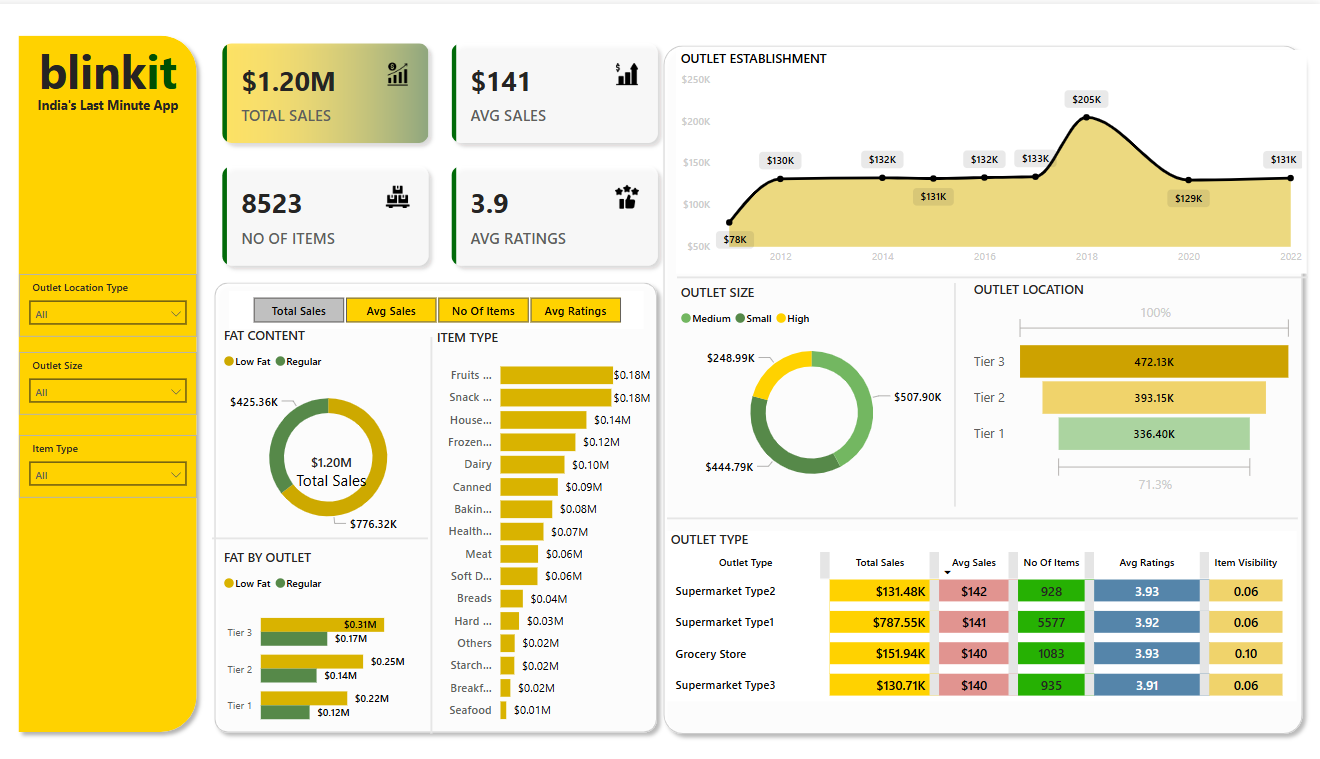

What the dashboard file says about the page in this screenshot:
{"tool":"powerbi","page":{"name":"Page 1","canvas":[1400,800],"ordinal":0},"visuals":[{"type":"shape","box":[22.3,24.5,205.3,750],"z":0},{"type":"textbox","box":[31.6,32.6,186.7,75.1],"z":1000},{"type":"textbox","box":[31.6,92.8,186.7,28.6],"z":2000},{"type":"cardVisual","fields":{"Data":["BlinkIT Grocery Data.Total Sales","BlinkIT Grocery Data.Average Sales","BlinkIT Grocery Data.Number Of Items","BlinkIT Grocery Data.Average Ratings"]},"box":[228.1,24.7,493.8,269.6],"z":3000},{"type":"shape","box":[228.1,283.5,483,490.9],"z":4000},{"type":"slicer","fields":{"Values":["Metrics.Metrics"]},"box":[251.9,301.2,435.6,40.5],"z":5000},{"type":"donutChart","title":"FAT CONTENT","fields":{"Y":["BlinkIT Grocery Data.Total Sales"],"Category":["BlinkIT Grocery Data.Item Fat Content"]},"box":[241.5,339.6,230.2,230.2],"z":6000},{"type":"cardVisual","fields":{"Data":["BlinkIT Grocery Data.Total Sales"]},"box":[305.2,454.3,110.6,75.1],"z":7000},{"type":"clusteredBarChart","title":"FAT BY OUTLET","fields":{"Y":["BlinkIT Grocery Data.Total Sales"],"Category":["BlinkIT Grocery Data.Outlet Location Type"],"Series":["BlinkIT Grocery Data.Item Fat Content"]},"box":[241.5,572.6,220.8,200.9],"z":8000},{"type":"shape","box":[234.9,549.1,227.4,26.4],"z":9000},{"type":"shape","box":[455.3,349.6,19.8,416.8],"z":10000},{"type":"barChart","title":"ITEM TYPE","fields":{"Y":["BlinkIT Grocery Data.Total Sales"],"Category":["BlinkIT Grocery Data.Item Type"]},"box":[465.2,341.7,235.1,424.7],"z":11000},{"type":"shape","box":[700,34.9,689.6,741.5],"z":12000},{"type":"lineChart","title":"OUTLET ESTABLISHMENT","fields":{"Category":["BlinkIT Grocery Data.Outlet Establishment Year"],"Y":["BlinkIT Grocery Data.Total Sales"]},"box":[721.7,48.1,663.2,234.9],"z":13000},{"type":"shape","box":[723.6,274.5,663.2,26.4],"z":14000},{"type":"donutChart","title":"OUTLET SIZE","fields":{"Y":["BlinkIT Grocery Data.Total Sales"],"Category":["BlinkIT Grocery Data.Outlet Size"]},"box":[722.1,294.3,285.9,226],"z":15000},{"type":"shape","box":[997.4,293.2,35.7,235.4],"z":16000},{"type":"funnel","title":"OUTLET LOCATION","fields":{"Category":["BlinkIT Grocery Data.Outlet Location Type"],"Y":["Sum(BlinkIT Grocery Data.Sales)"]},"box":[1030,291.1,345.8,228.1],"z":17000},{"type":"shape","box":[712.6,527.6,663.2,26.3],"z":18000},{"type":"pivotTable","title":"OUTLET TYPE","fields":{"Rows":["BlinkIT Grocery Data.Outlet Type"],"Values":["BlinkIT Grocery Data.Total Sales","BlinkIT Grocery Data.Avg Sales","BlinkIT Grocery Data.No Of Items","BlinkIT Grocery Data.Avg Ratings","Avg(BlinkIT Grocery Data.Item Visibility)"]},"box":[711.6,553.9,663.2,178.7],"z":19000},{"type":"slicer","fields":{"Values":["BlinkIT Grocery Data.Outlet Location Type"]},"box":[31.5,283.8,187.1,66.2],"z":19001},{"type":"slicer","fields":{"Values":["BlinkIT Grocery Data.Outlet Size"]},"box":[31.5,365.8,187.1,66.2],"z":19002},{"type":"slicer","fields":{"Values":["BlinkIT Grocery Data.Item Type"]},"box":[31.5,453,187.1,66.2],"z":19003}]}

Visuals, with their boxes in screenshot pixels (x1, y1, x2, y2), scaled from the page's 1400x800 canvas onto the 1320x759 screenshot:
shape: bbox=(21, 23, 215, 735)
textbox: bbox=(30, 31, 206, 102)
textbox: bbox=(30, 88, 206, 115)
cardVisual - BlinkIT Grocery Data.Total Sales x BlinkIT Grocery Data.Average Sales: bbox=(215, 23, 681, 279)
shape: bbox=(215, 269, 670, 735)
slicer - Metrics.Metrics: bbox=(238, 286, 648, 324)
"FAT CONTENT" donutChart: bbox=(228, 322, 445, 541)
cardVisual - BlinkIT Grocery Data.Total Sales: bbox=(288, 431, 392, 502)
"FAT BY OUTLET" clusteredBarChart: bbox=(228, 543, 436, 734)
shape: bbox=(221, 521, 436, 546)
shape: bbox=(429, 332, 448, 727)
"ITEM TYPE" barChart: bbox=(439, 324, 660, 727)
shape: bbox=(660, 33, 1310, 737)
"OUTLET ESTABLISHMENT" lineChart: bbox=(680, 46, 1306, 268)
shape: bbox=(682, 260, 1308, 285)
"OUTLET SIZE" donutChart: bbox=(681, 279, 950, 494)
shape: bbox=(940, 278, 974, 502)
"OUTLET LOCATION" funnel: bbox=(971, 276, 1297, 493)
shape: bbox=(672, 501, 1297, 526)
"OUTLET TYPE" pivotTable: bbox=(671, 526, 1296, 695)
slicer - BlinkIT Grocery Data.Outlet Location Type: bbox=(30, 269, 206, 332)
slicer - BlinkIT Grocery Data.Outlet Size: bbox=(30, 347, 206, 410)
slicer - BlinkIT Grocery Data.Item Type: bbox=(30, 430, 206, 493)
